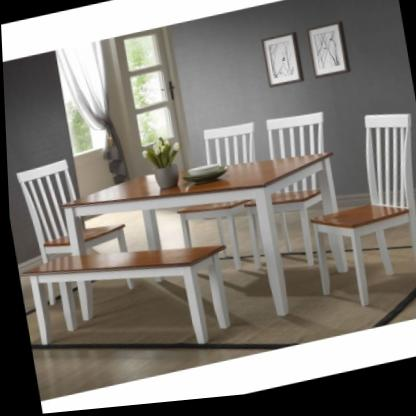Curtains: (56, 43, 126, 186)
Dining Table: (4, 90, 416, 402)
Wooden floor: (28, 290, 401, 402)
